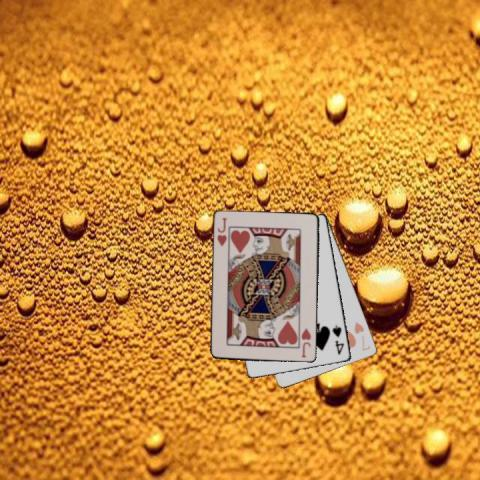4s: (330, 322, 346, 356)
7h: (351, 319, 372, 352)
Jh: (214, 215, 228, 247), (299, 325, 312, 359)
